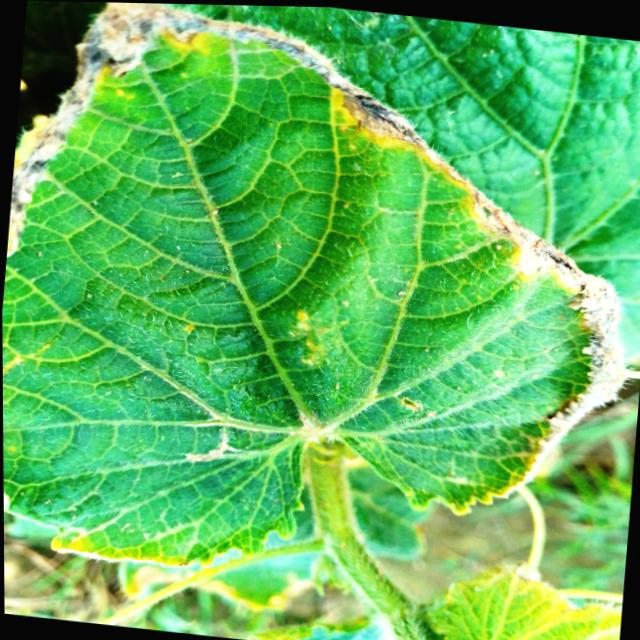Gummy-Stem-Blight: (6, 2, 632, 486)
